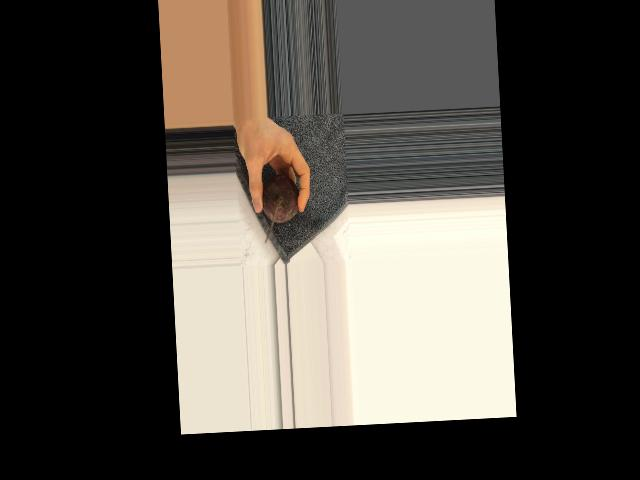beet: (260, 174, 301, 243)
